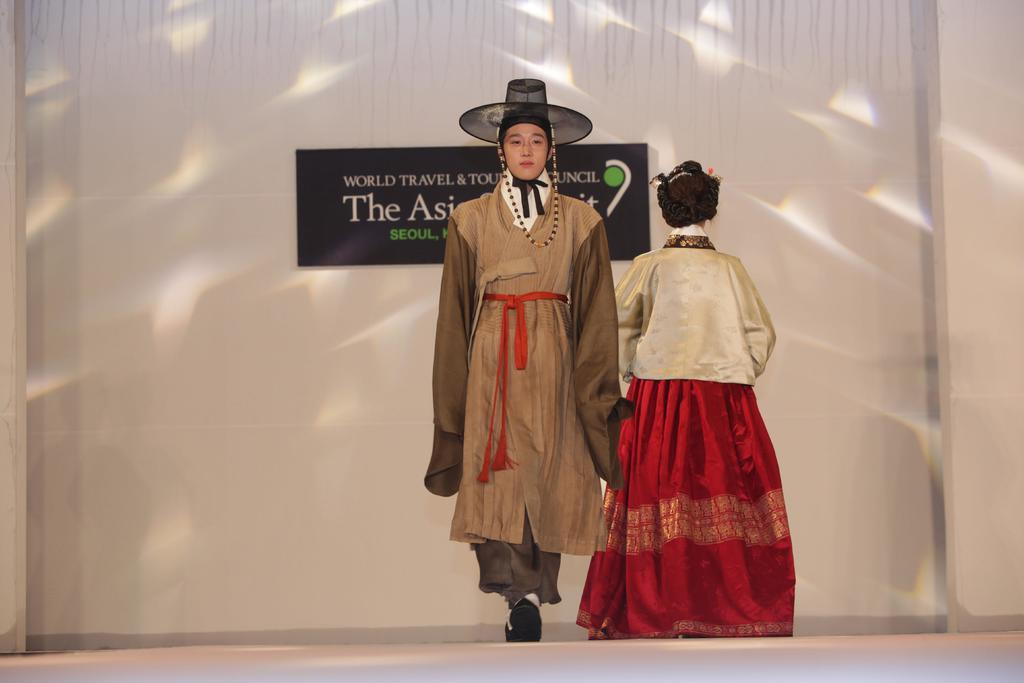Hat: (456, 80, 595, 251)
